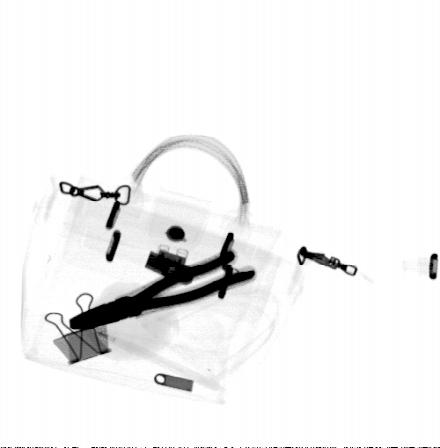Pliers: (69, 247, 259, 331)
